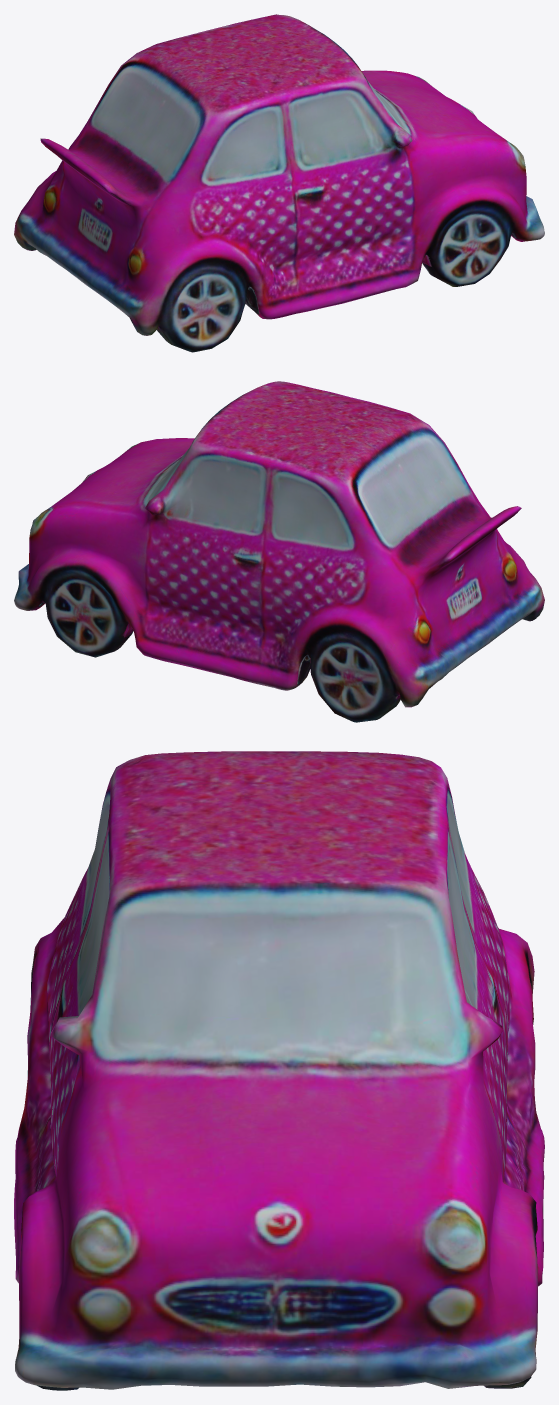
File: 8a6d0a29d473_barbie_car_min.fbx
The picture shows the model from 3 angles, top to bottom: view 1: azimuth 30°, elevation 25°; view 2: azimuth 150°, elevation 25°; view 3: azimuth 270°, elevation 25°; orthographic projection. The views are drawn at different scales.
Visible parts, largest first — view 1: mesh; view 2: mesh; view 3: mesh.
Part boxes in pixels (left/top/right/bottom): mesh: left=14, top=14, right=544, bottom=352; mesh: left=14, top=381, right=544, bottom=722; mesh: left=14, top=751, right=544, bottom=1390.
Size of the model in its own units: 99.39 by 50.89 by 57.26.
